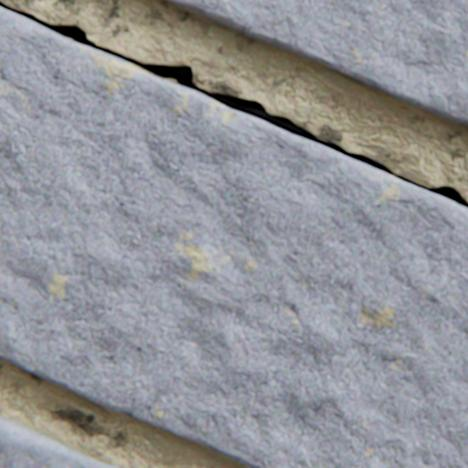brick: (0, 8, 467, 467), (164, 0, 467, 126), (0, 414, 126, 467)
crack: (0, 0, 467, 208)
